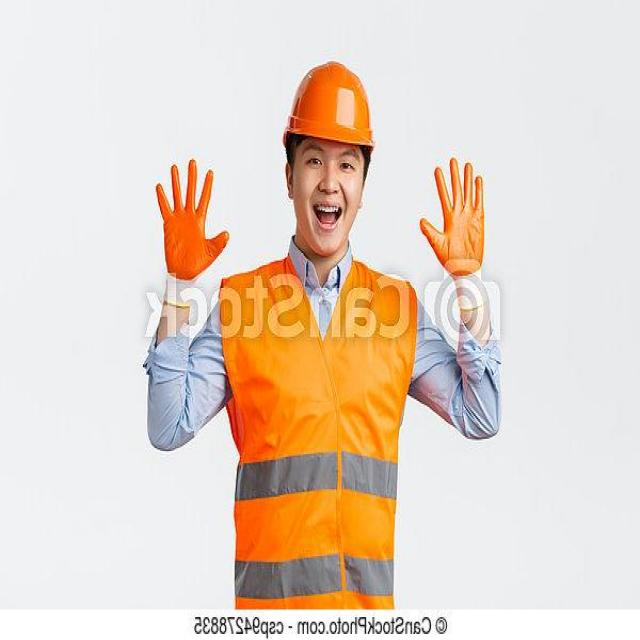Reflective-Jacket: (217, 259, 419, 608)
Safety-Helmet: (281, 56, 378, 154)
